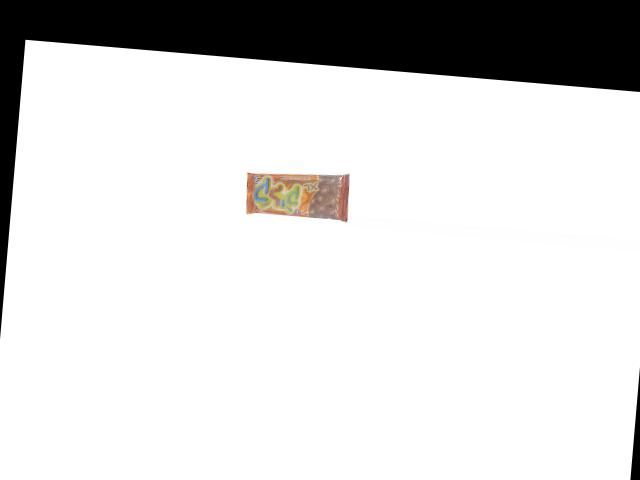chocolate: (243, 167, 351, 222)
